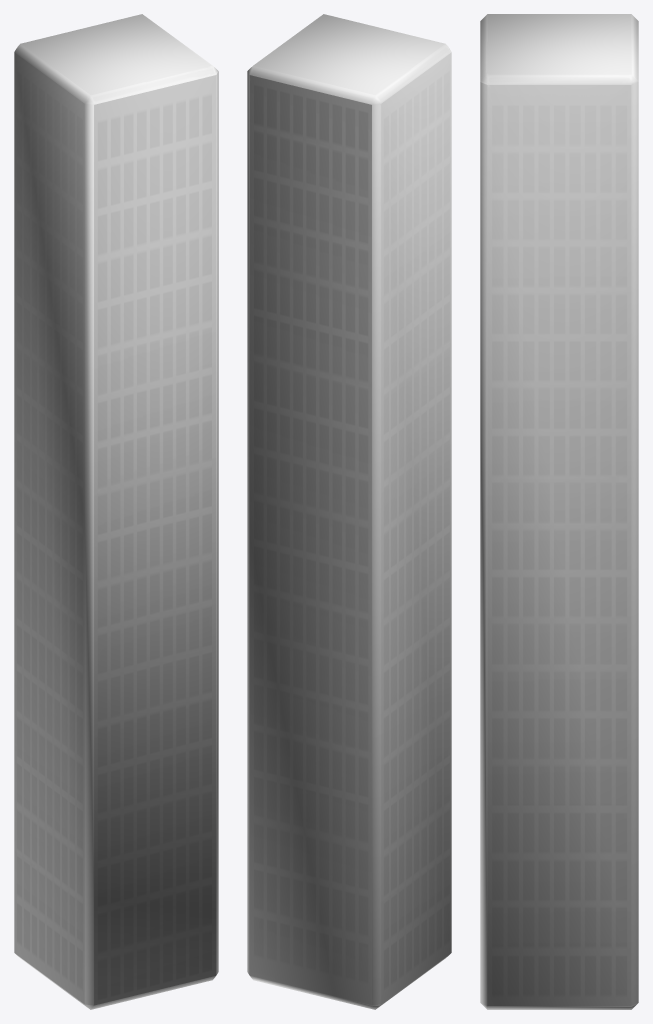
File: building3.1.fbx
3 views of the same model, side by side, from view 1: azimuth 30°, elevation 25°; view 2: azimuth 150°, elevation 25°; view 3: azimuth 270°, elevation 25° (orthographic). The views are drawn at different scales.
Parts seen in each view (by area): view 1: Cube.003; view 2: Cube.003; view 3: Cube.003.
Part boxes in pixels (left/top/right/bottom): Cube.003: left=14, top=14, right=218, bottom=1009; Cube.003: left=247, top=14, right=451, bottom=1009; Cube.003: left=480, top=14, right=638, bottom=1009.
Bounding box in the file's own units: 320 × 2088 × 320.
